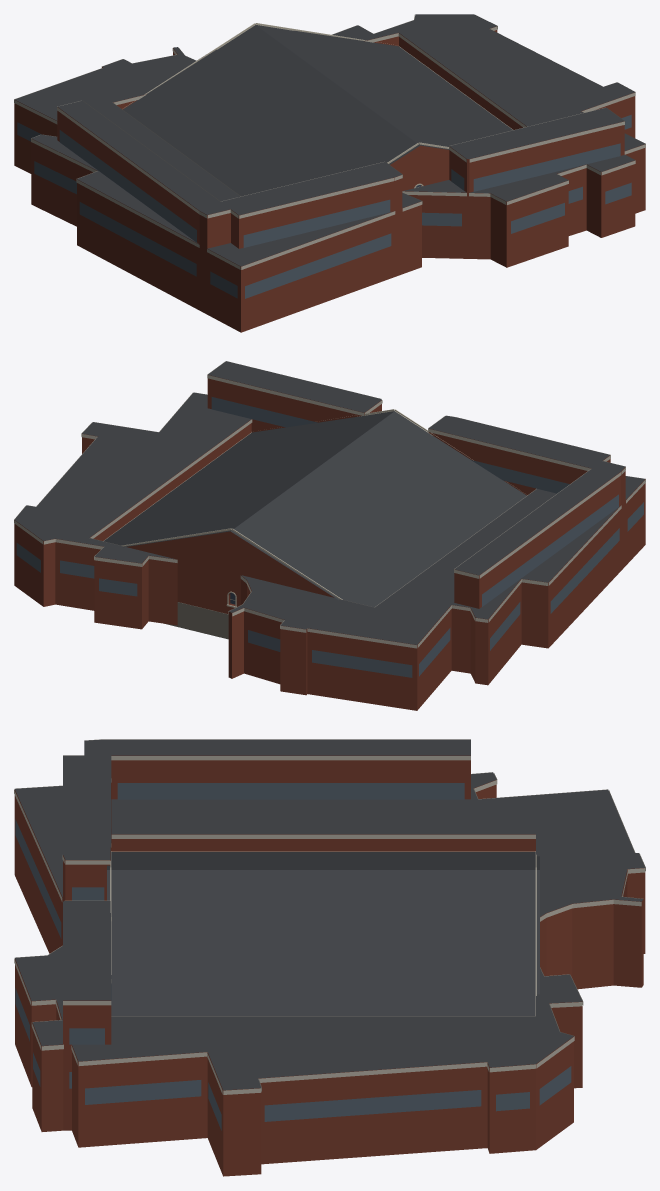
Rendered from levy-church-of-christ-nlr.glb.
The picture shows the model from 3 angles, top to bottom: view 1: azimuth 30°, elevation 25°; view 2: azimuth 150°, elevation 25°; view 3: azimuth 270°, elevation 25°; orthographic projection. The views are drawn at different scales.
Visible parts, largest first — view 1: levy_church_of_christ_nlr; view 2: levy_church_of_christ_nlr; view 3: levy_church_of_christ_nlr.
Boxes of the visible parts, bbox=[...] form: levy_church_of_christ_nlr: bbox=[14, 14, 645, 332]; levy_church_of_christ_nlr: bbox=[14, 361, 645, 710]; levy_church_of_christ_nlr: bbox=[14, 739, 645, 1176].
Bounding box in the file's own units: 71.22 × 15.11 × 58.84.
